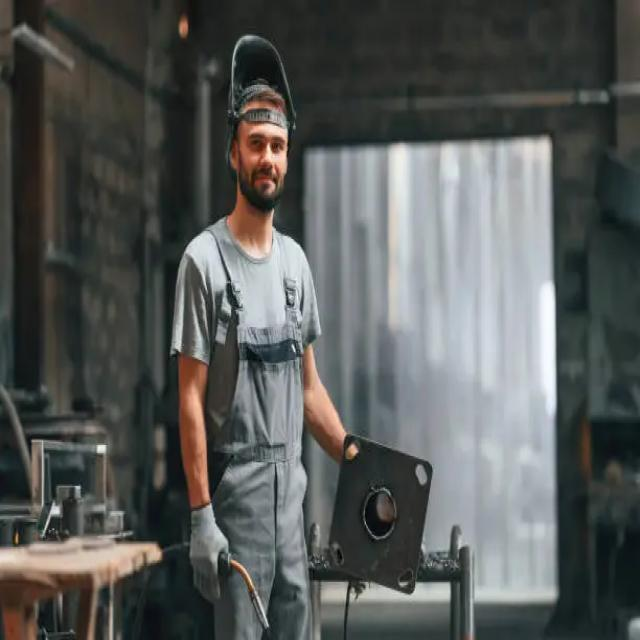helmet_lifted: (212, 31, 306, 238)
